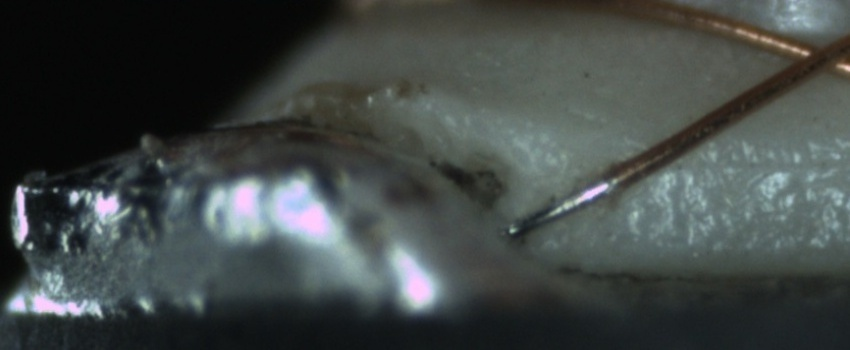CL: (770, 28, 848, 84)
DL: (677, 132, 848, 196)
TS: (502, 173, 620, 238)
TTCW: (499, 155, 646, 239)
